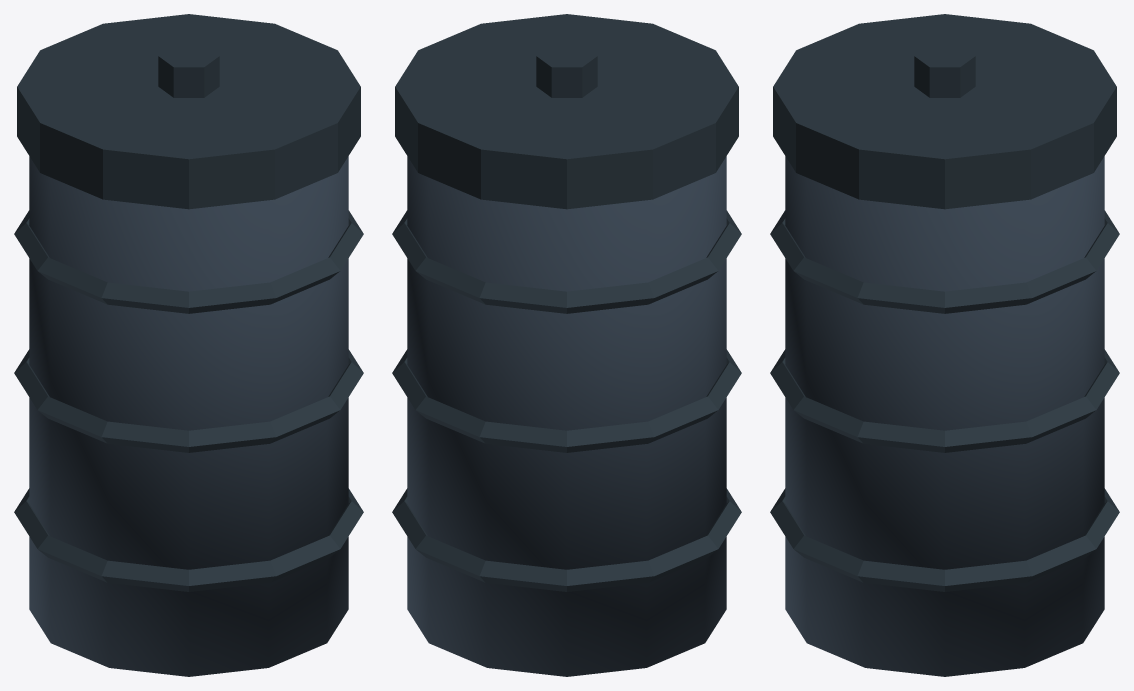
Rendered from hd_trashcan.gltf.
3 views of the same model, side by side, from view 1: azimuth 30°, elevation 25°; view 2: azimuth 150°, elevation 25°; view 3: azimuth 270°, elevation 25° (orthographic).
Visible parts, largest first — view 1: can, lid, rib, rib.001, rib.002, knob; view 2: can, lid, rib, rib.001, rib.002, knob; view 3: can, lid, rib, rib.001, rib.002, knob.
Boxes of the visible parts, left/top/right/bottom form: can: left=29, top=156, right=348, bottom=676; lid: left=17, top=14, right=360, bottom=209; rib: left=14, top=488, right=363, bottom=591; rib.001: left=14, top=349, right=363, bottom=452; rib.002: left=14, top=210, right=363, bottom=313; knob: left=158, top=44, right=219, bottom=97; can: left=407, top=156, right=726, bottom=676; lid: left=395, top=14, right=738, bottom=209; rib: left=392, top=488, right=741, bottom=591; rib.001: left=392, top=349, right=741, bottom=452; rib.002: left=392, top=210, right=741, bottom=313; knob: left=536, top=44, right=597, bottom=97; can: left=785, top=156, right=1104, bottom=676; lid: left=773, top=14, right=1116, bottom=209; rib: left=770, top=488, right=1119, bottom=591; rib.001: left=770, top=349, right=1119, bottom=452; rib.002: left=770, top=210, right=1119, bottom=313; knob: left=914, top=44, right=975, bottom=97.
Bounding box in the file's own units: 0.57 × 0.995 × 0.57.
